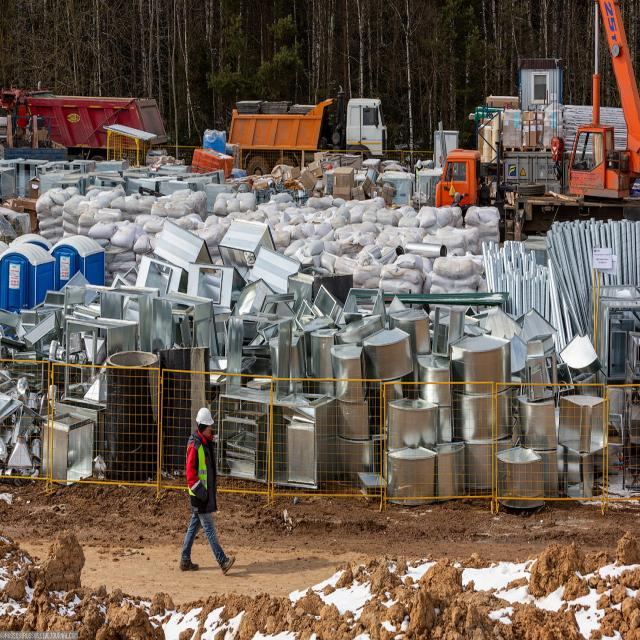Helmet: (198, 409, 216, 431)
Jacket: (190, 435, 214, 511)
